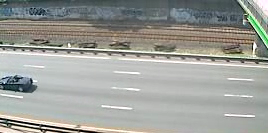car: (1, 74, 36, 95)
